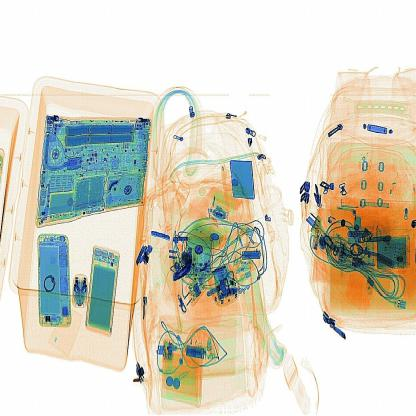knife: (168, 260, 196, 286)
